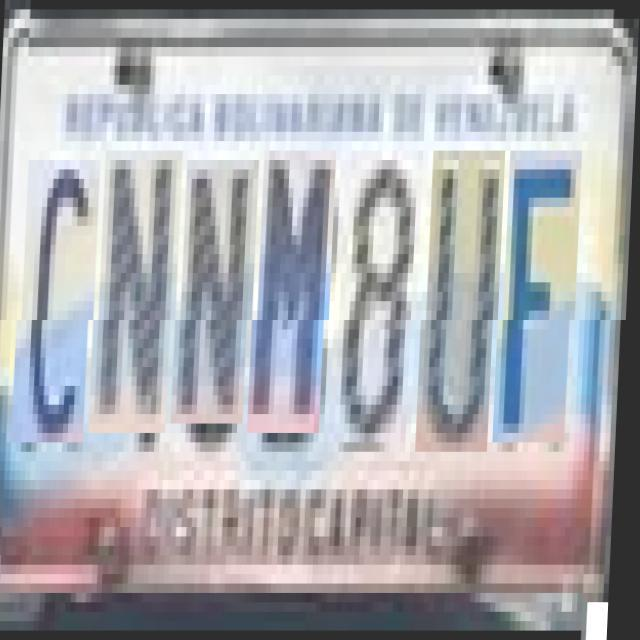8: (338, 150, 424, 442)
C: (20, 160, 101, 442)
F: (502, 150, 584, 442)
M: (256, 150, 338, 434)
N: (98, 150, 184, 434), (180, 160, 261, 424)
U: (424, 150, 506, 452)
